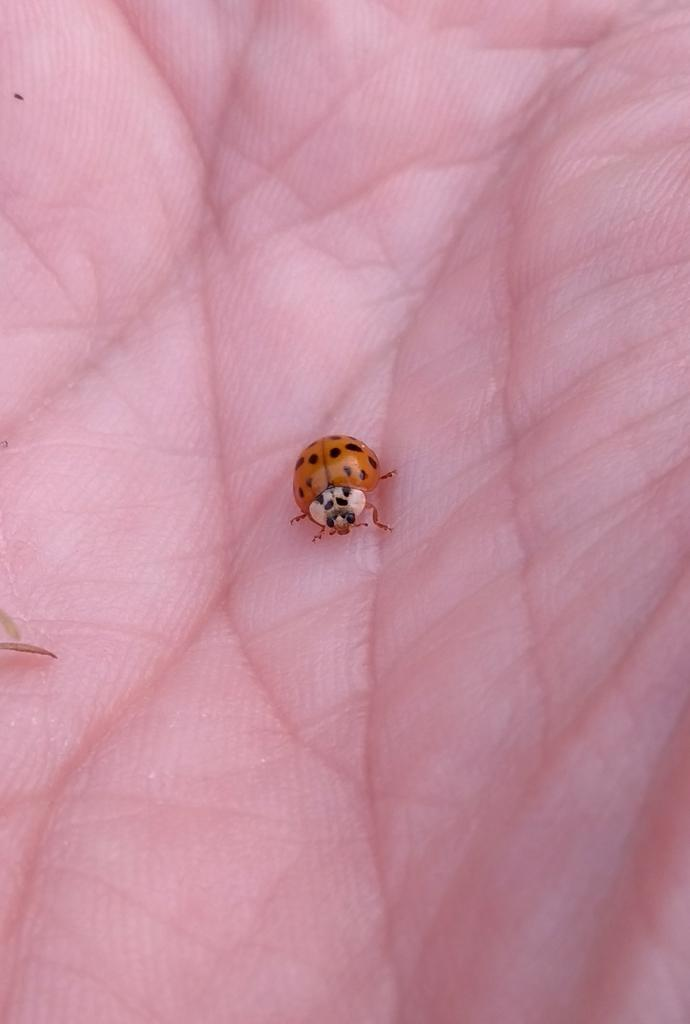ladybug: (284, 429, 406, 549)
